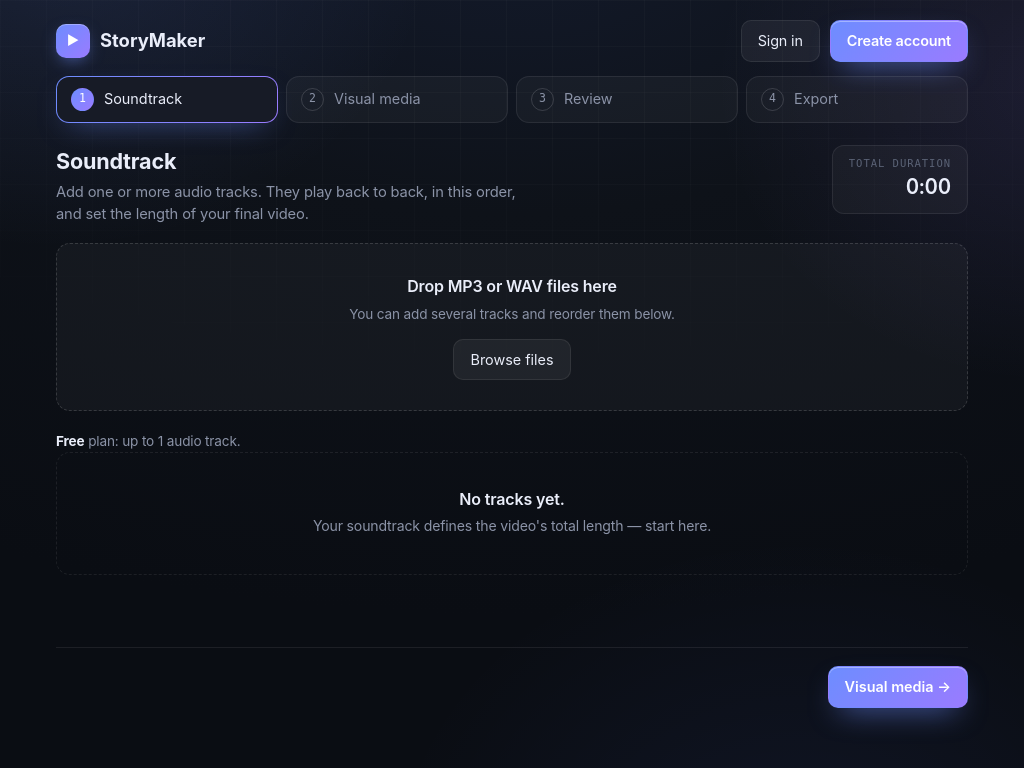
Scenario: App shell › shows friendly empty states on upload stages
Expected: the text "No tracks yet." is shown, [459,488,565,508]
Click the button "2 Visual media": click(397, 99) [286,76,508,123]
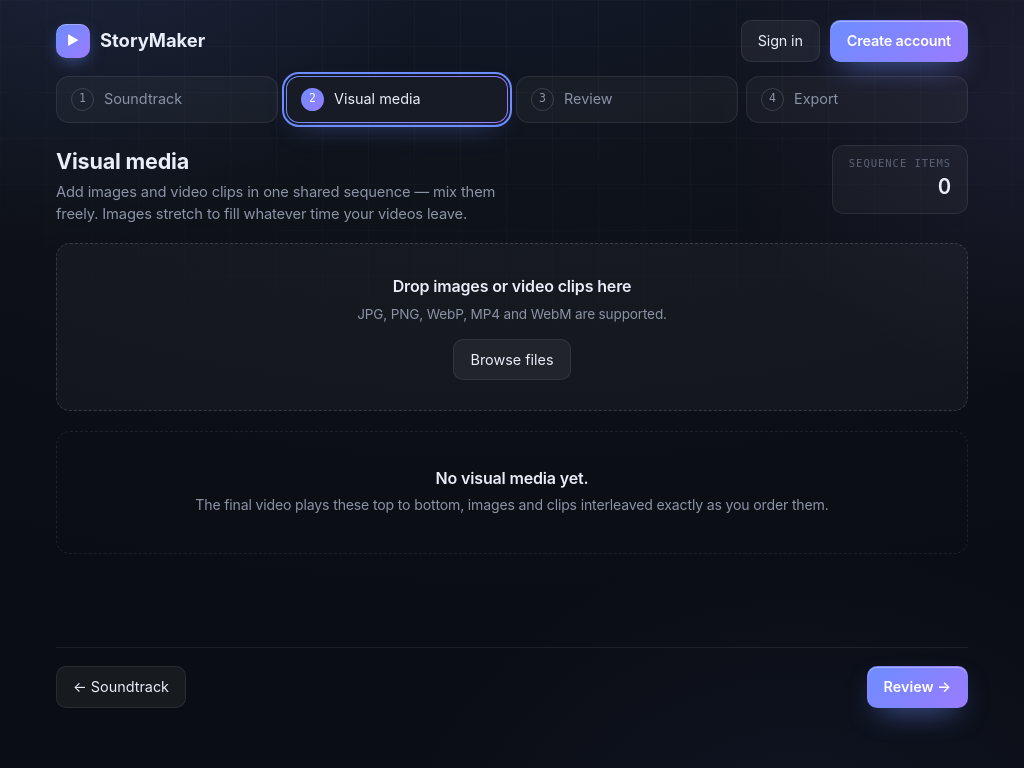
Result: the text "No visual media yet." is shown at [436,468,588,488]
